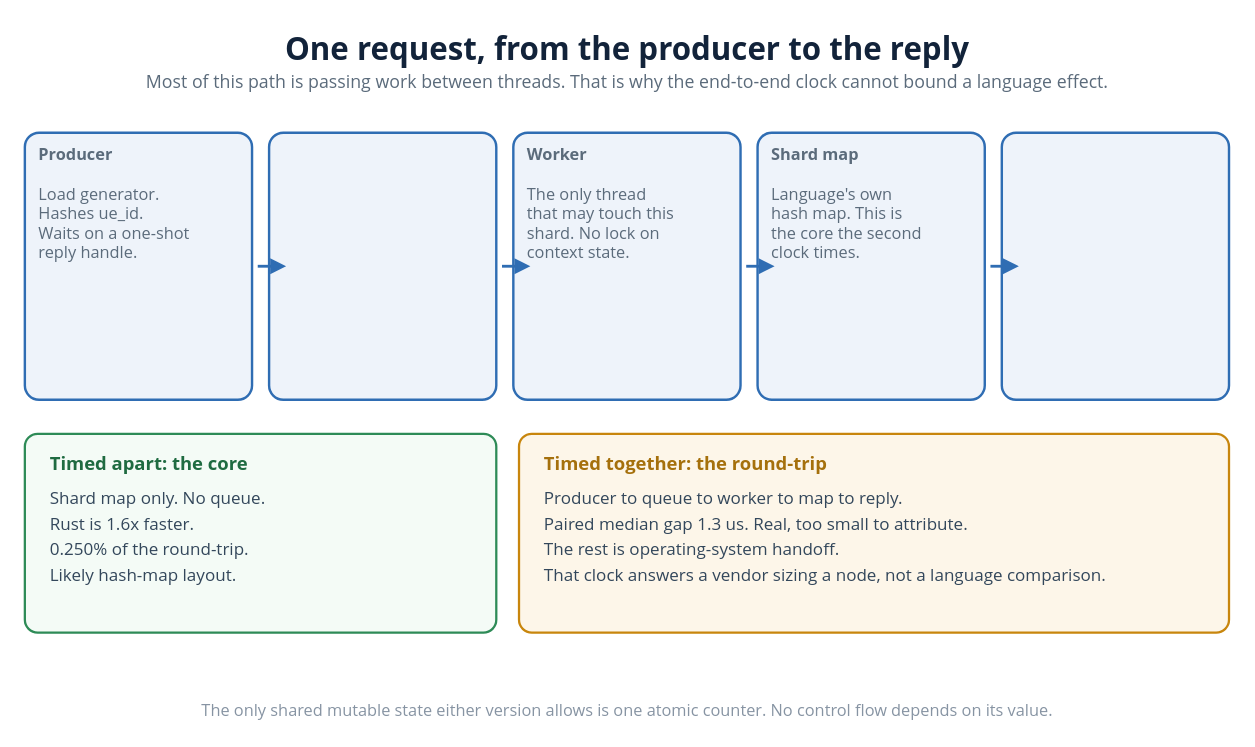
Some shapes in this 1255 by 747 pixel diagram are drawn without their labels. Here are the shapes that lost their labels. From the top down, the centre of each, then its label:
point 382,265: MPSC queue Bounded. FIFO. Blocks when full. One queue per shard.
point 1115,265: Reply Result goes back on the one-shot handle. Producer unblocks.
